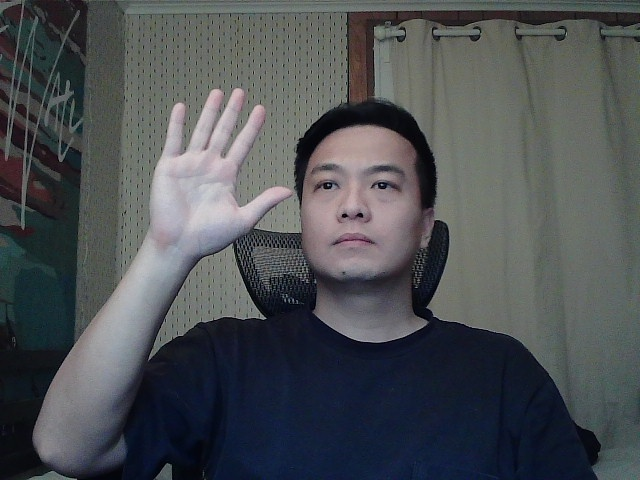Hello: (140, 78, 303, 261)
